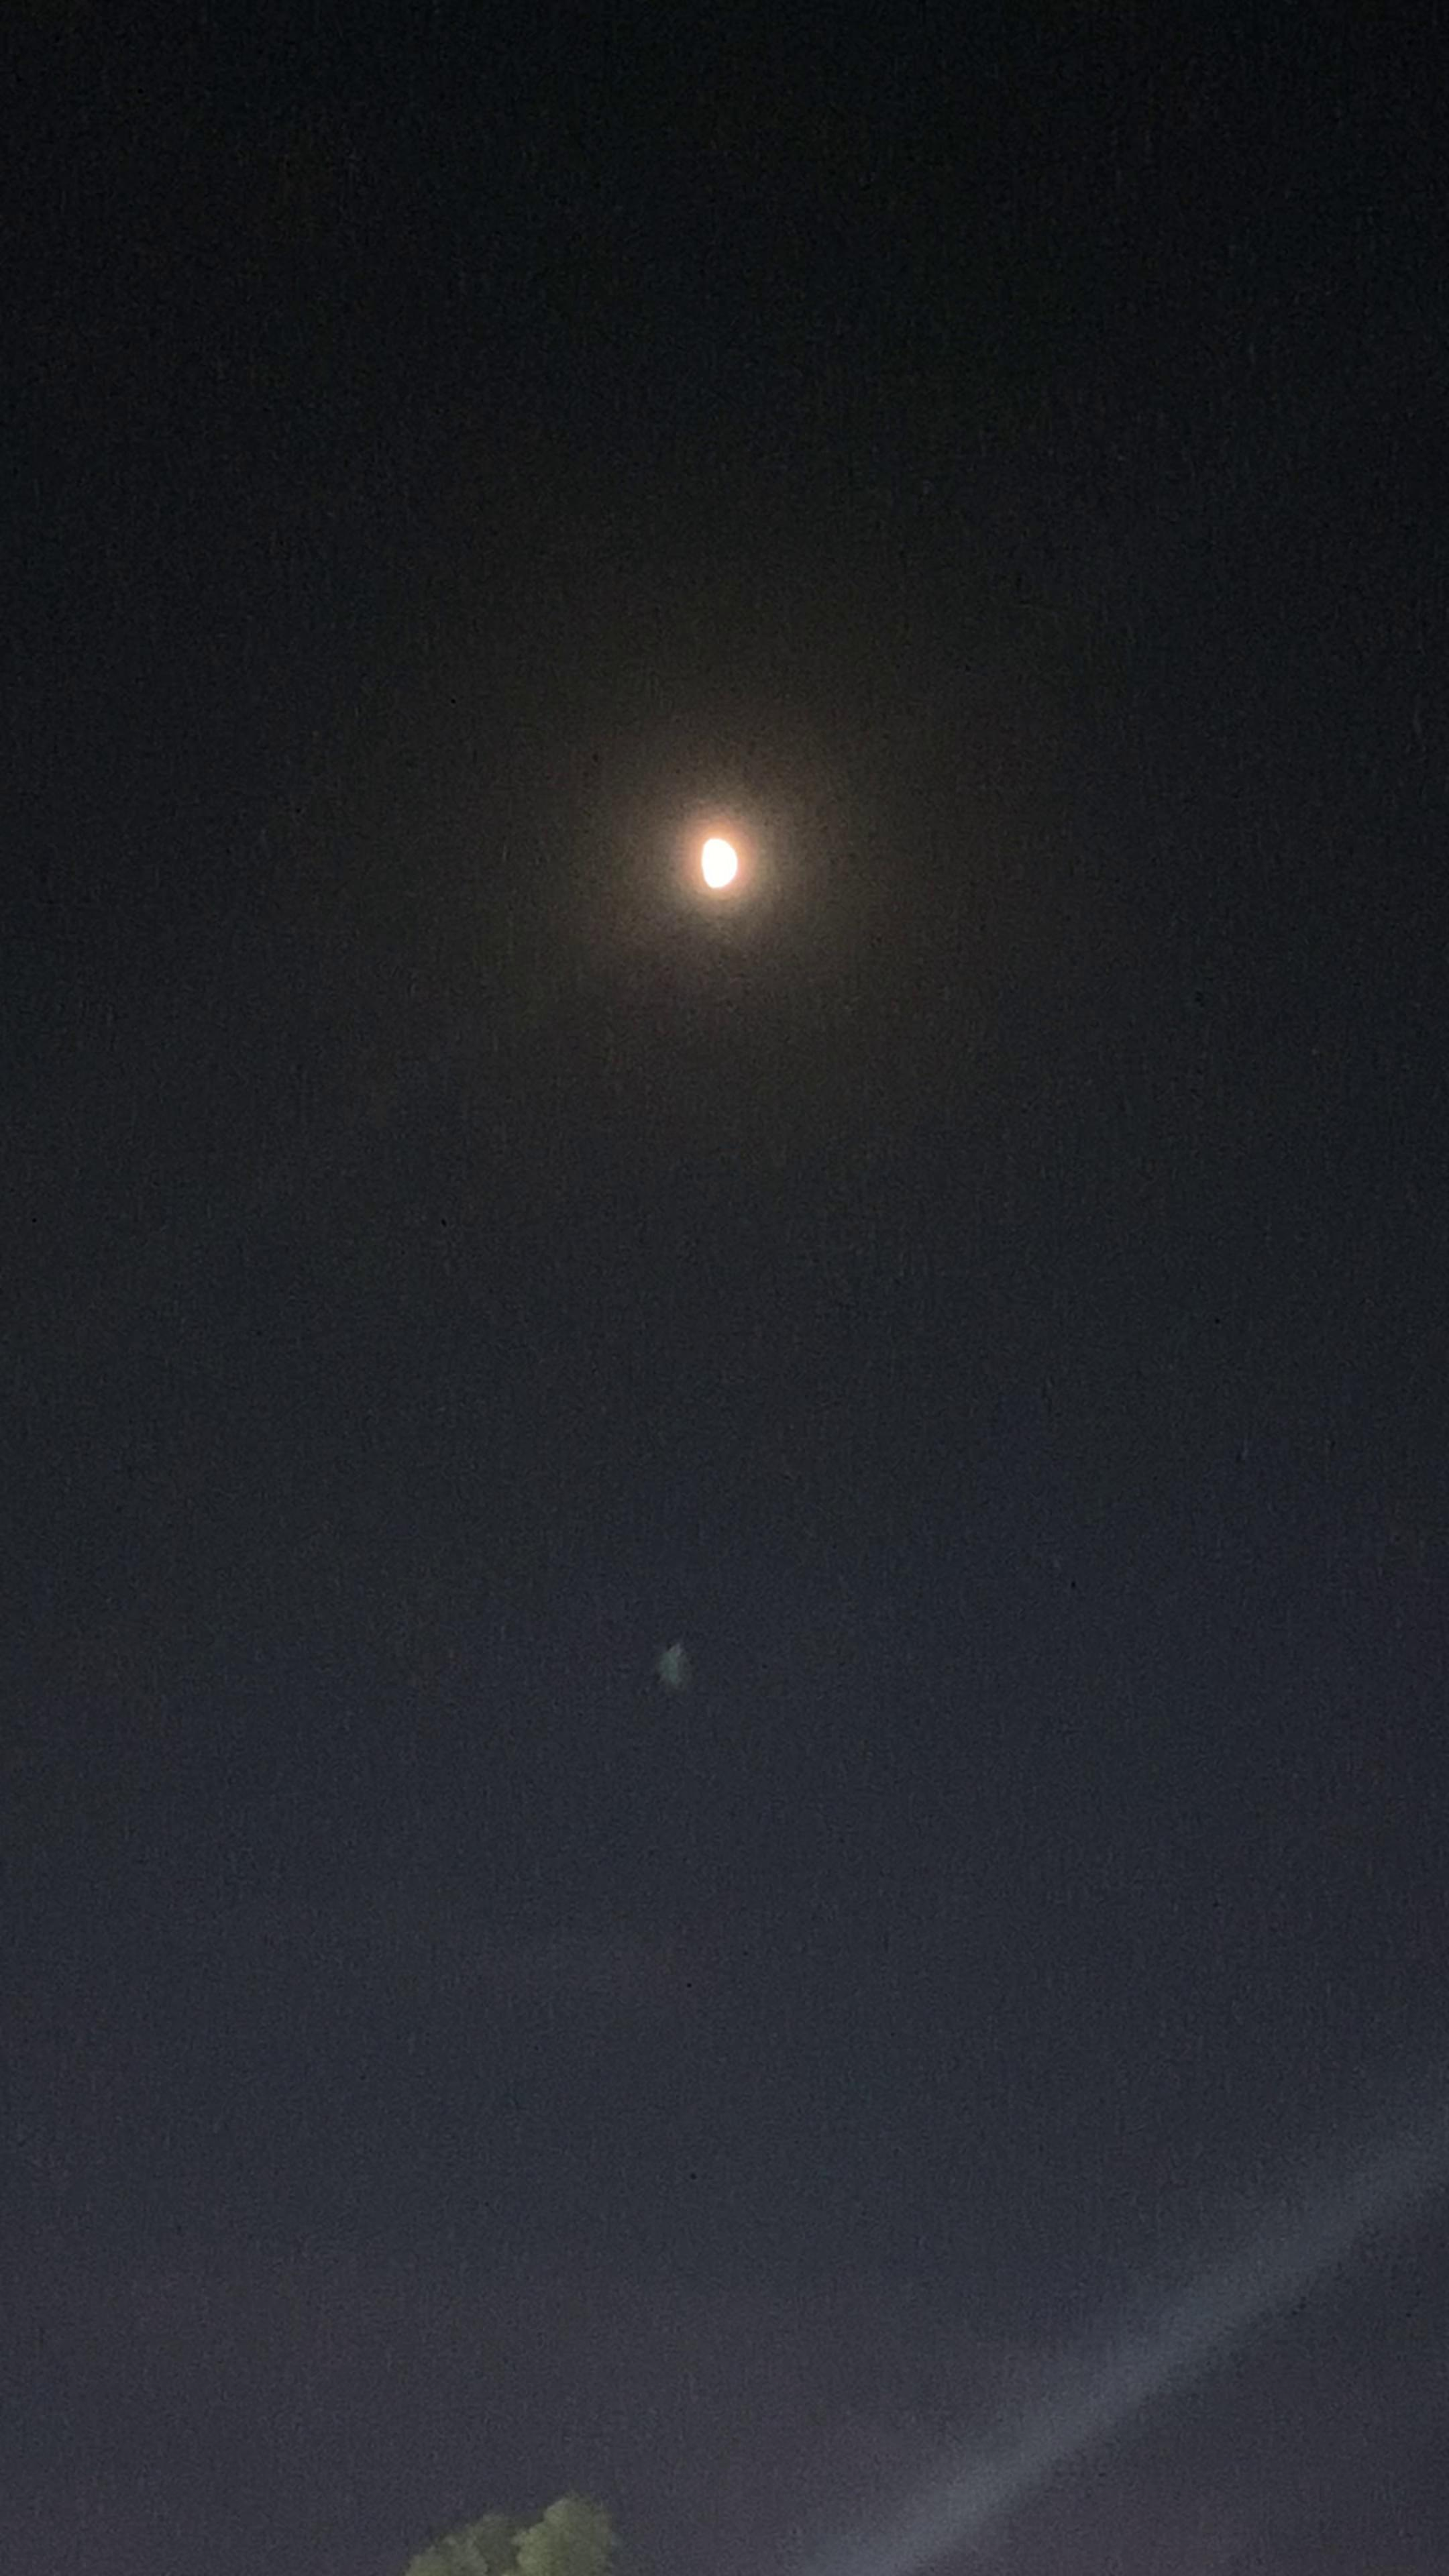moon: (669, 803, 786, 931)
